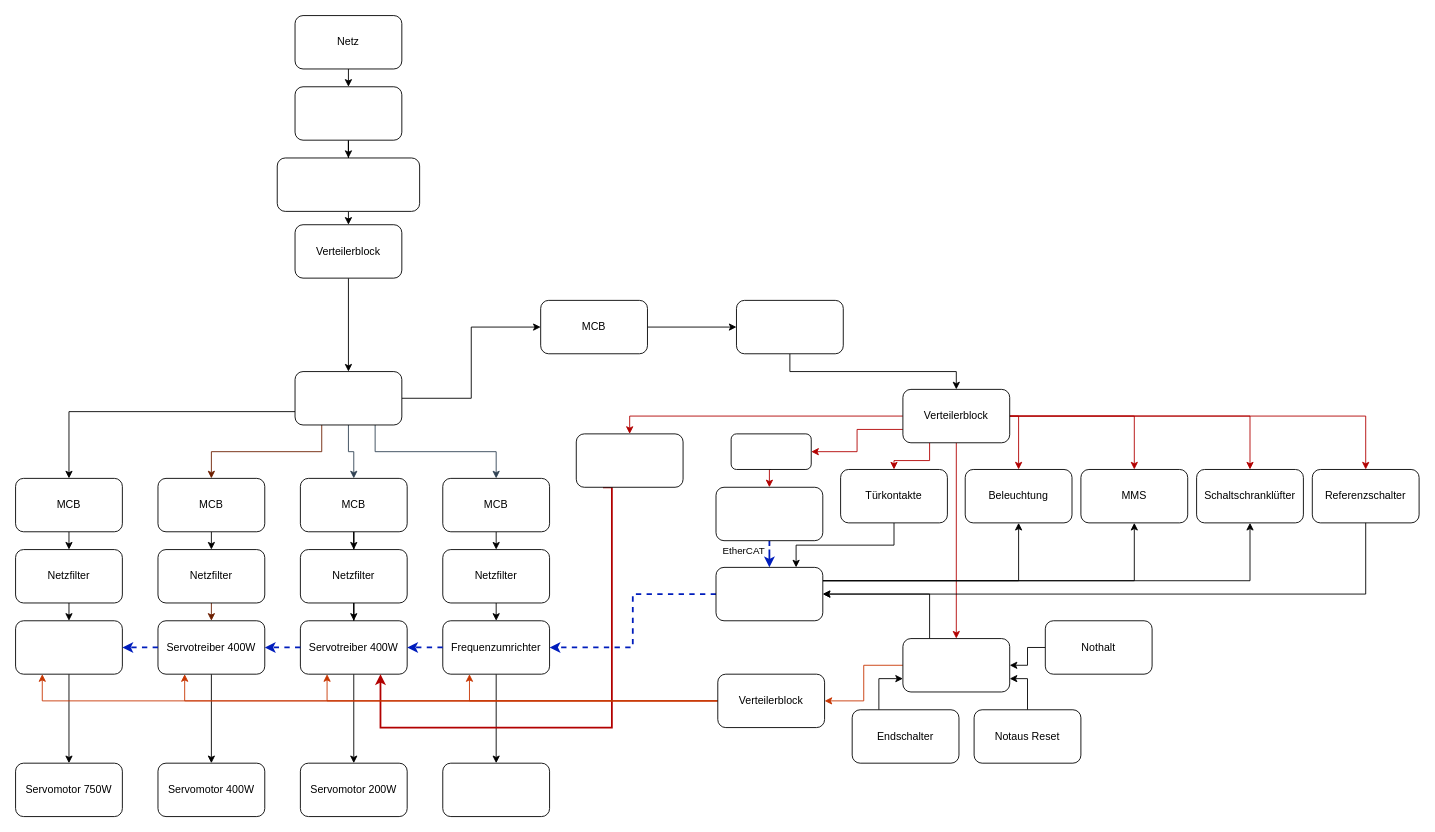
Some shapes in this 1435 by 832 pixel diagram are drawn without their labels. The box of each missing label's shape, as (x1, y1, x2, y2) in pixels:
24V Netzteil: (736, 299, 843, 354)
Beckhoff DIO: (715, 566, 823, 621)
DC-DC Wandler: (730, 433, 811, 469)
Frässpindeöl: (442, 762, 550, 817)
Hauptschalter: (294, 86, 402, 140)
Koppelrelais: (575, 433, 683, 487)
Lattepanda Mu: (715, 486, 823, 541)
MCCB: (294, 371, 402, 425)
Servotreiber 750W: (15, 620, 122, 674)
Sicherheitsrelais: (902, 638, 1010, 692)
Überspannungsschutz Typ 2: (276, 157, 420, 211)
